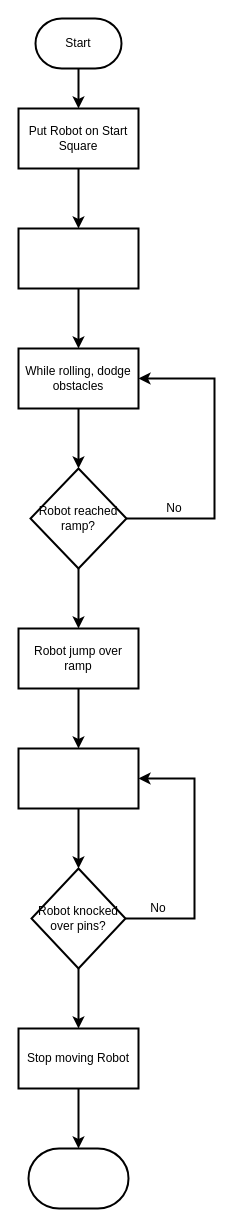
The diagram is 240 pixels wide and 1226 high, and some of its shapes have lost their labels. Each missing label, with the box of its shape:
End: (27, 1147, 129, 1209)
Roll Robot: (17, 227, 139, 289)
Roll Robot to knock over pins: (17, 747, 139, 809)
